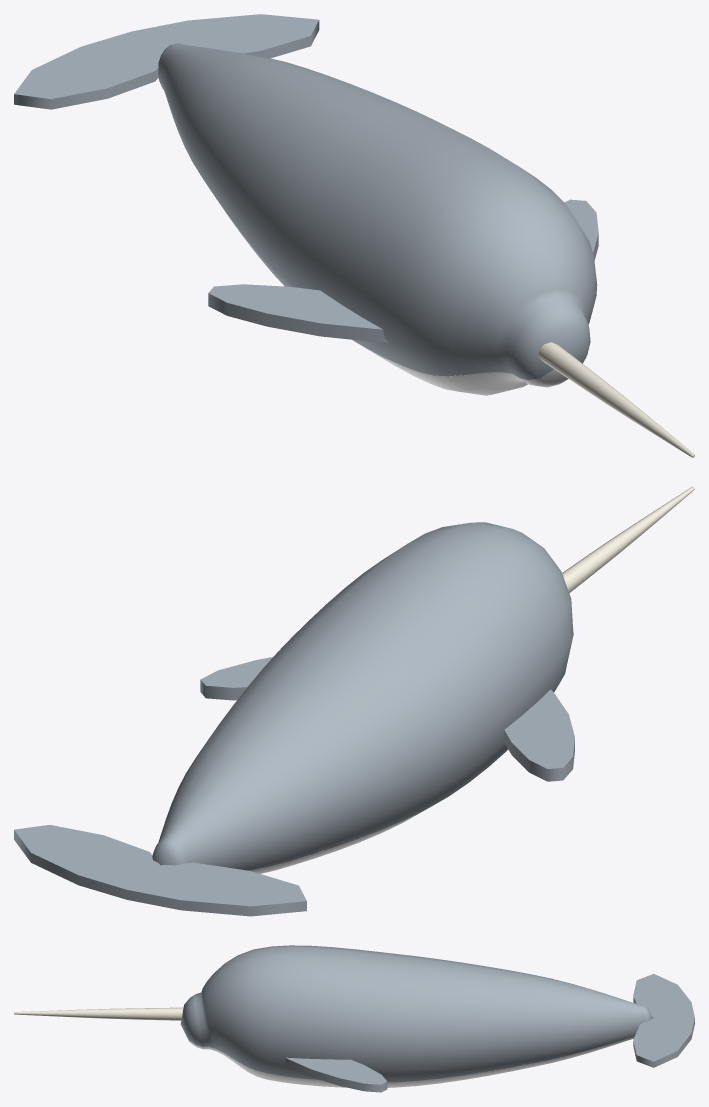
Rendered from polar-tundra-and-alpine-fauna-narwhal-13e11f25__6081.glb.
3 views of the same model, one above another, from view 1: azimuth 30°, elevation 25°; view 2: azimuth 150°, elevation 25°; view 3: azimuth 270°, elevation 25° (orthographic). The views are drawn at different scales.
Visible parts, largest first — view 1: narwhal; view 2: narwhal; view 3: narwhal.
Part boxes in pixels (<box>): narwhal: <box>14,14,694,457</box>; narwhal: <box>14,486,694,916</box>; narwhal: <box>14,945,694,1092</box>.
Size of the model in its own units: 2.61 by 1.43 by 6.88.
